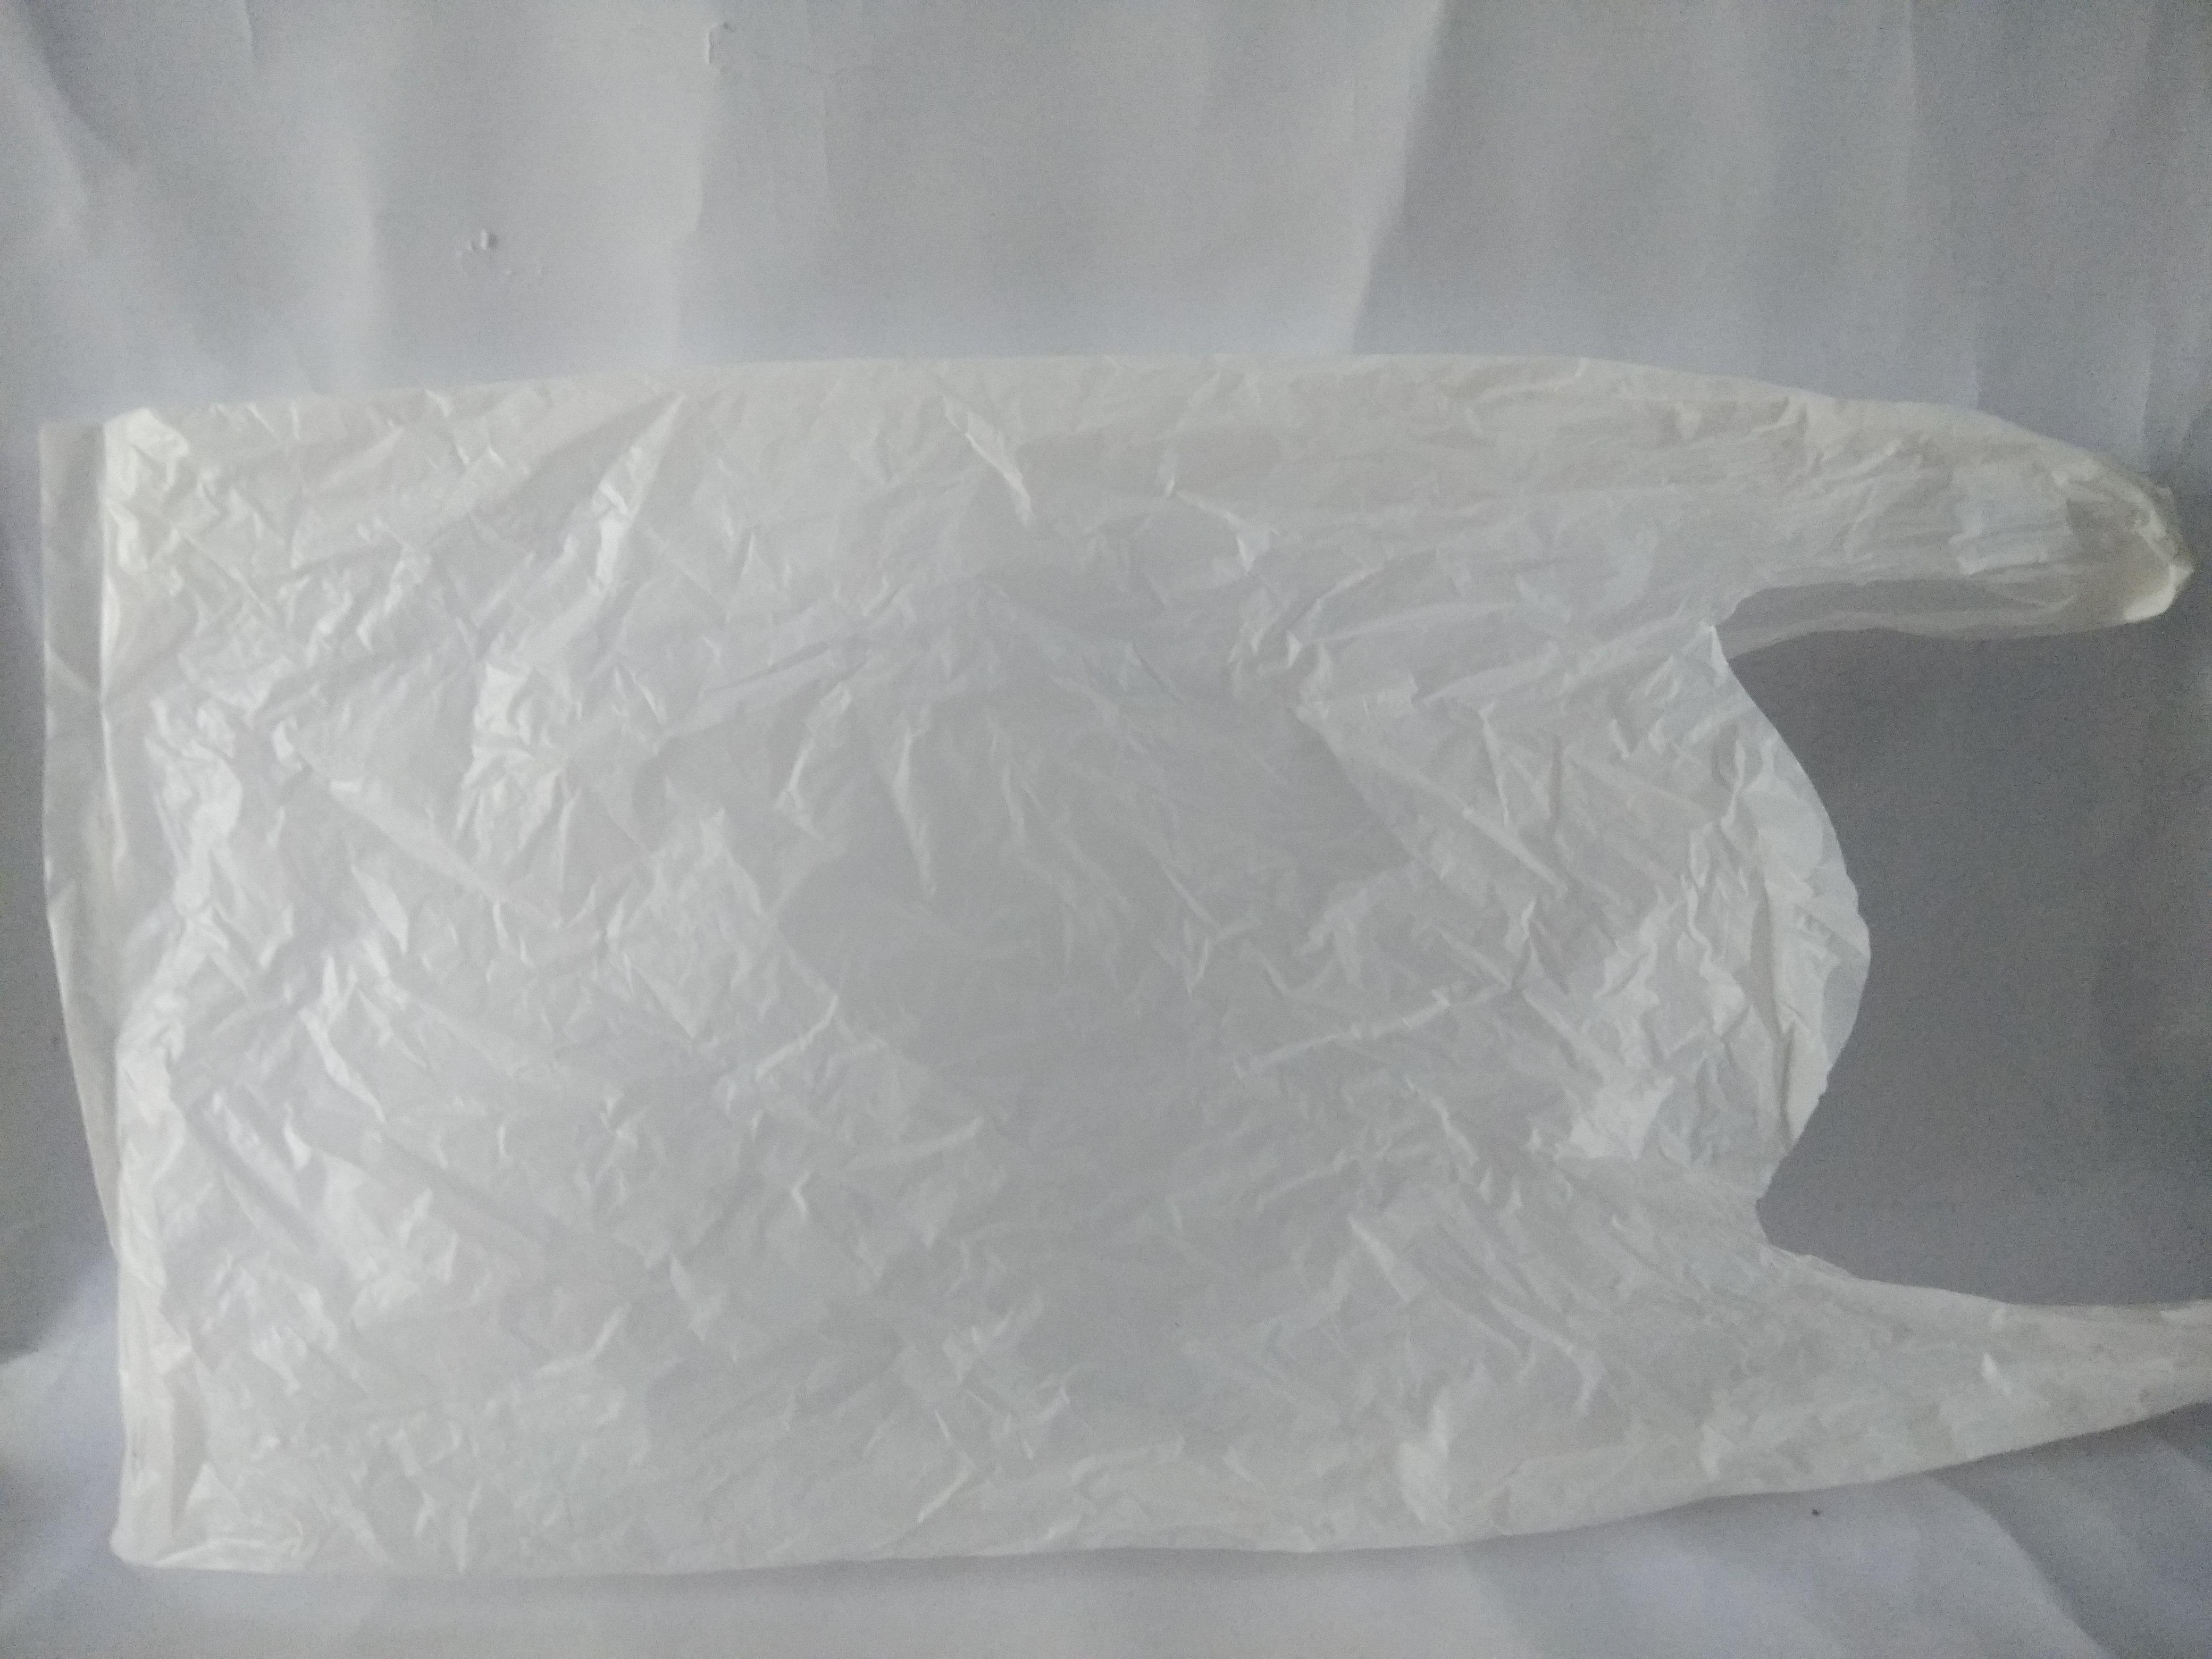LDPE: (35, 352, 2212, 1591)
